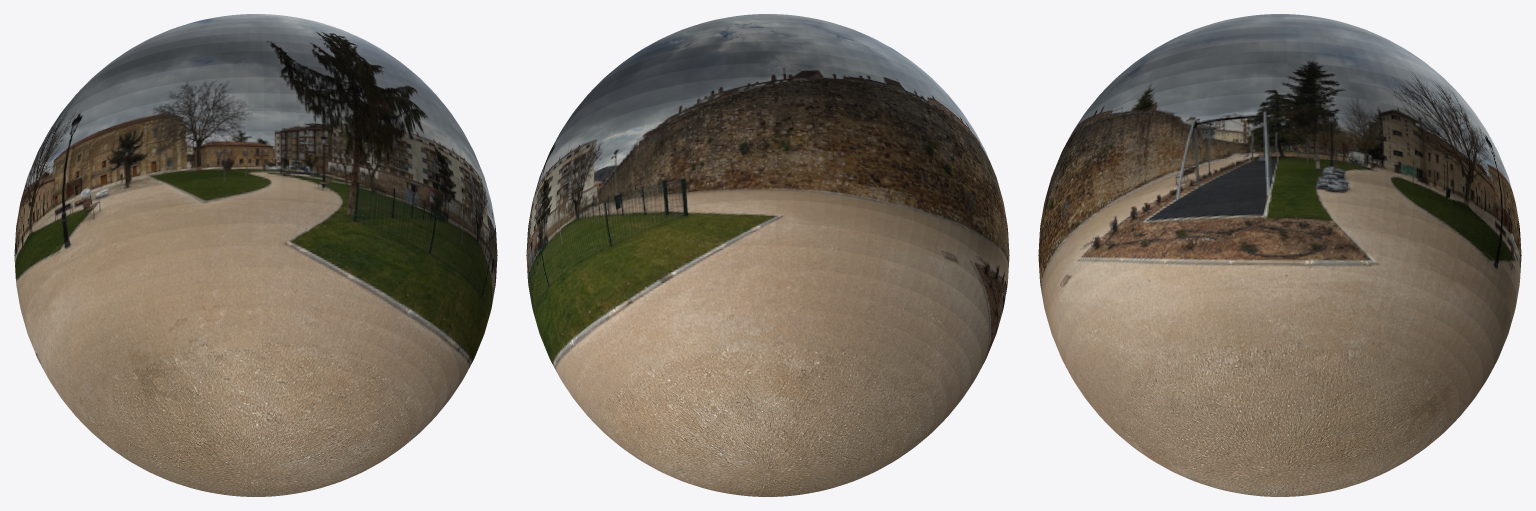
File: building_CDFG_360.glb
The picture shows the model from 3 angles, left to right: view 1: azimuth 30°, elevation 25°; view 2: azimuth 150°, elevation 25°; view 3: azimuth 270°, elevation 25°; orthographic projection.
Size of the model in its own units: 2 by 2 by 2.
Materials: 1 (1 with a texture image).
